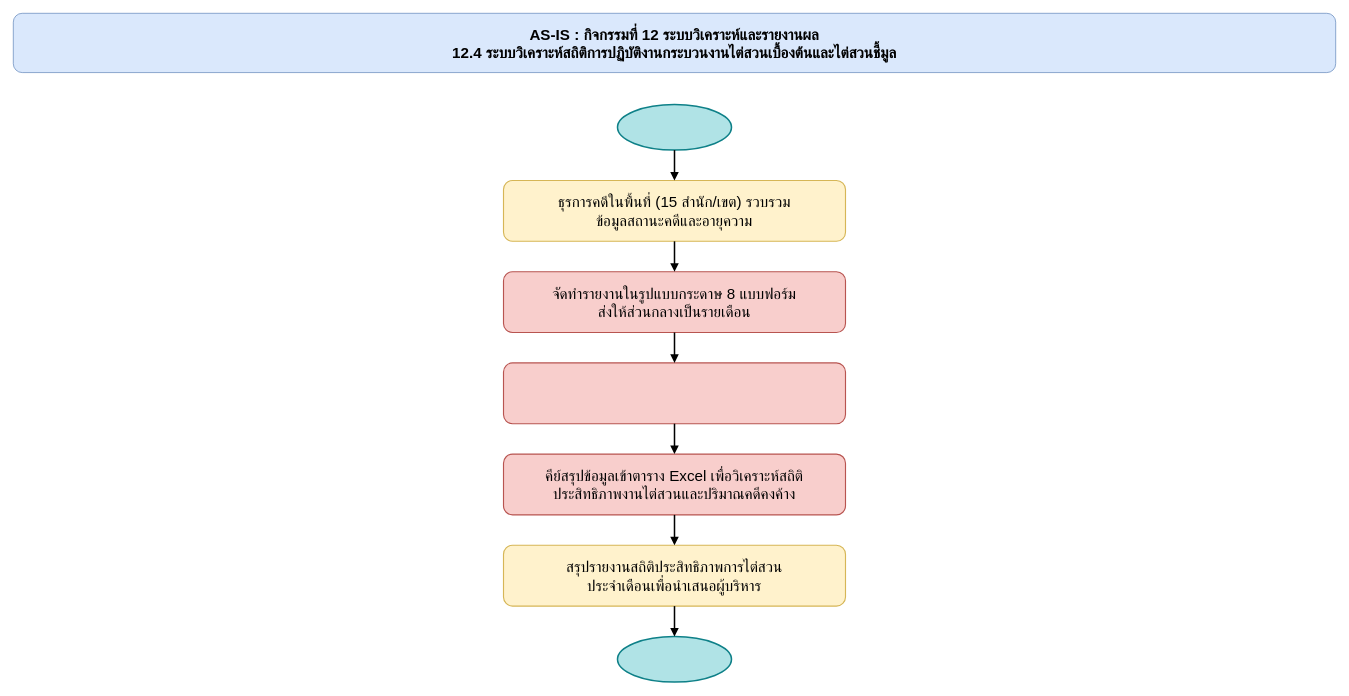
Some shapes in this 1349 by 696 pixel diagram are drawn without their labels. The centre of each missing label's shape, as x and y in pixels:
"สิ้นสุด" belongs at point (674, 658).
"เจ้าหน้าที่ส่วนกลางรับรายงานกระดาษและตรวจสอบ ความถูกต้องของข้อมูล (Manual Count)" belongs at point (674, 393).
"เริ่มต้น" belongs at point (674, 126).
